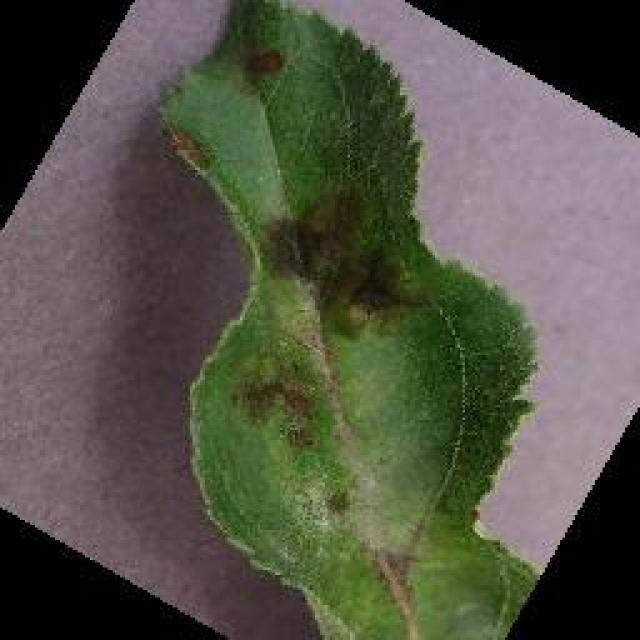apple scab disease: (152, 0, 542, 638)
